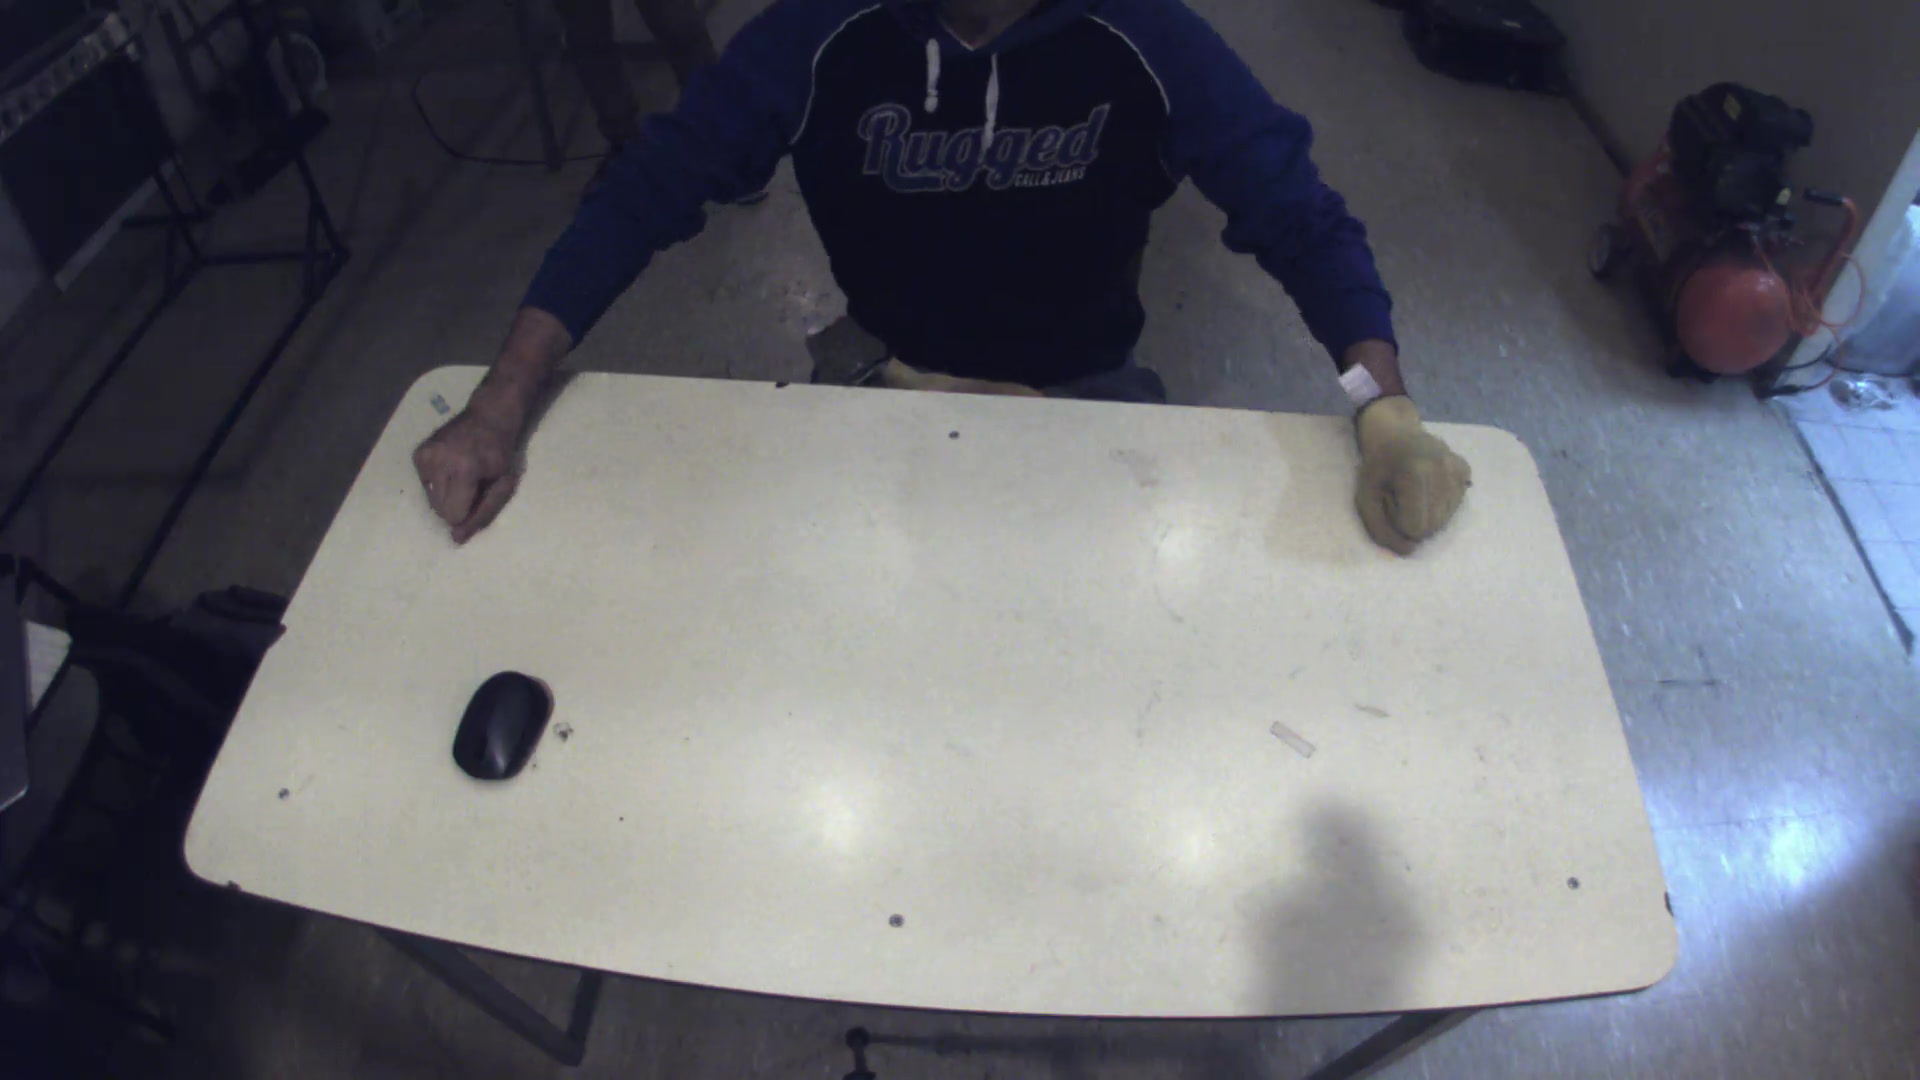hand: (400, 375, 542, 545), (1342, 388, 1487, 554)
